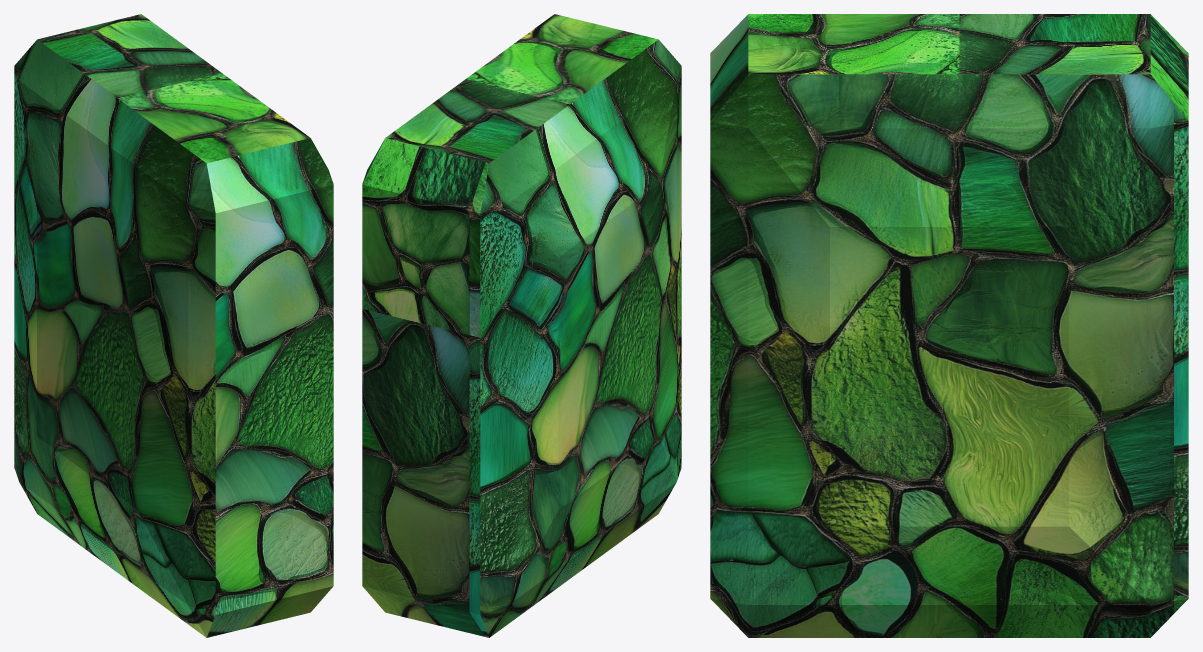
Rendered from gemstone6GreenCompressed.glb.
3 views of the same model, side by side, from view 1: azimuth 30°, elevation 25°; view 2: azimuth 150°, elevation 25°; view 3: azimuth 270°, elevation 25° (orthographic). The views are drawn at different scales.
Visible parts, largest first — view 1: gemstone5; view 2: gemstone5; view 3: gemstone5.
Part boxes in pixels (left/top/right/bottom): gemstone5: left=14, top=14, right=333, bottom=637; gemstone5: left=362, top=14, right=681, bottom=637; gemstone5: left=710, top=14, right=1188, bottom=637.
Bounding box in the file's own units: 0.5 × 1.3 × 1.
1 material, 1 textured.
